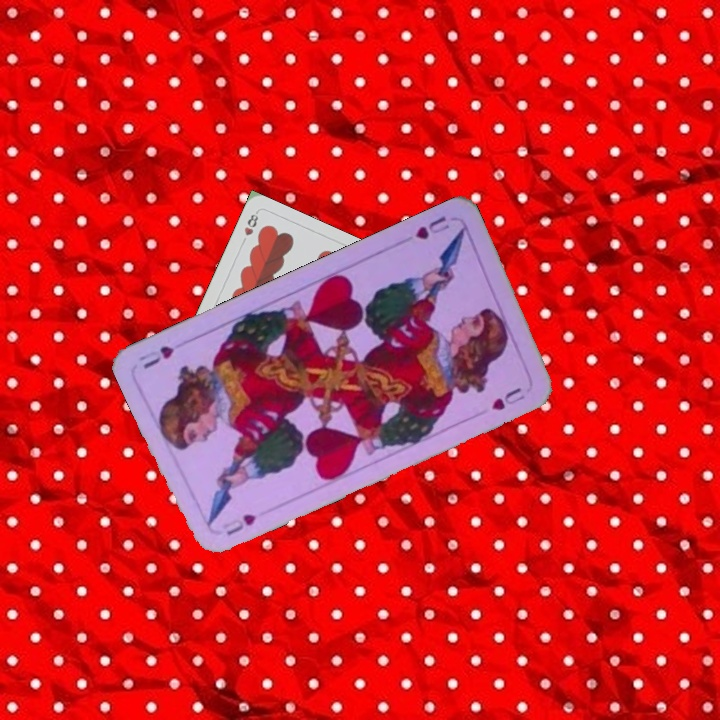H8: (240, 208, 261, 238)
HU: (411, 212, 452, 242), (218, 509, 259, 538)
